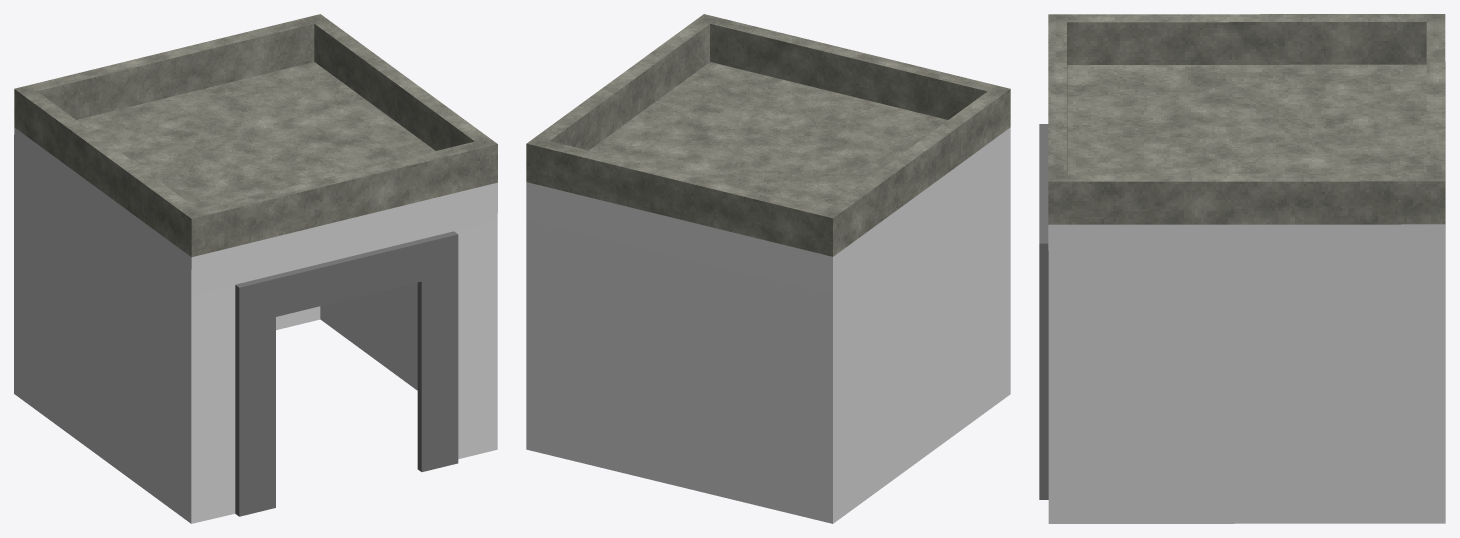
Rendered from ElevatorRoom.glb.
The picture shows the model from 3 angles, left to right: view 1: azimuth 30°, elevation 25°; view 2: azimuth 150°, elevation 25°; view 3: azimuth 270°, elevation 25°; orthographic projection. The views are drawn at different scales.
Parts seen in each view (by area): view 1: ElevatorRoom; view 2: ElevatorRoom; view 3: ElevatorRoom.
Boxes of the visible parts, bbox=[...] form: ElevatorRoom: bbox=[14, 14, 497, 523]; ElevatorRoom: bbox=[526, 14, 1010, 523]; ElevatorRoom: bbox=[1039, 14, 1445, 523].
Size of the model in its own units: 4.2 by 4.01 by 4.31.
Materials: 3 (1 with a texture image).
